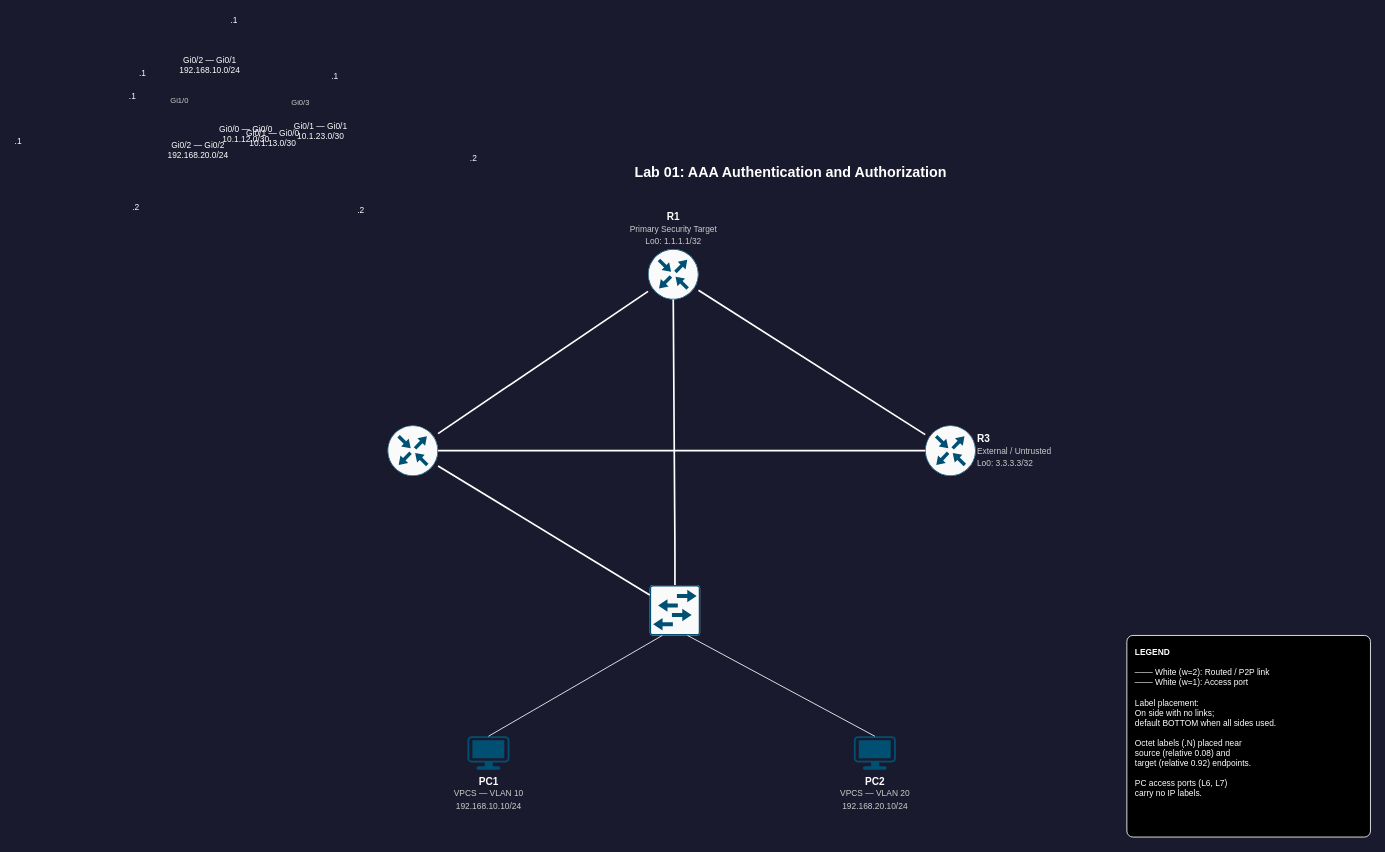
Image size: 1385x852. Some labels were removed from this diagram. Here are the shapes that lost their labels. From the top down, the centre of each, then its label:
At point 412,450: "R2 Management Station Lo0: 2.2.2.2/32".
At point 674,609: "SW1 Access Switch VLAN 10 | VLAN 20 | VLAN 99 Mgmt VLAN 99: 192.168.99.11/24".
